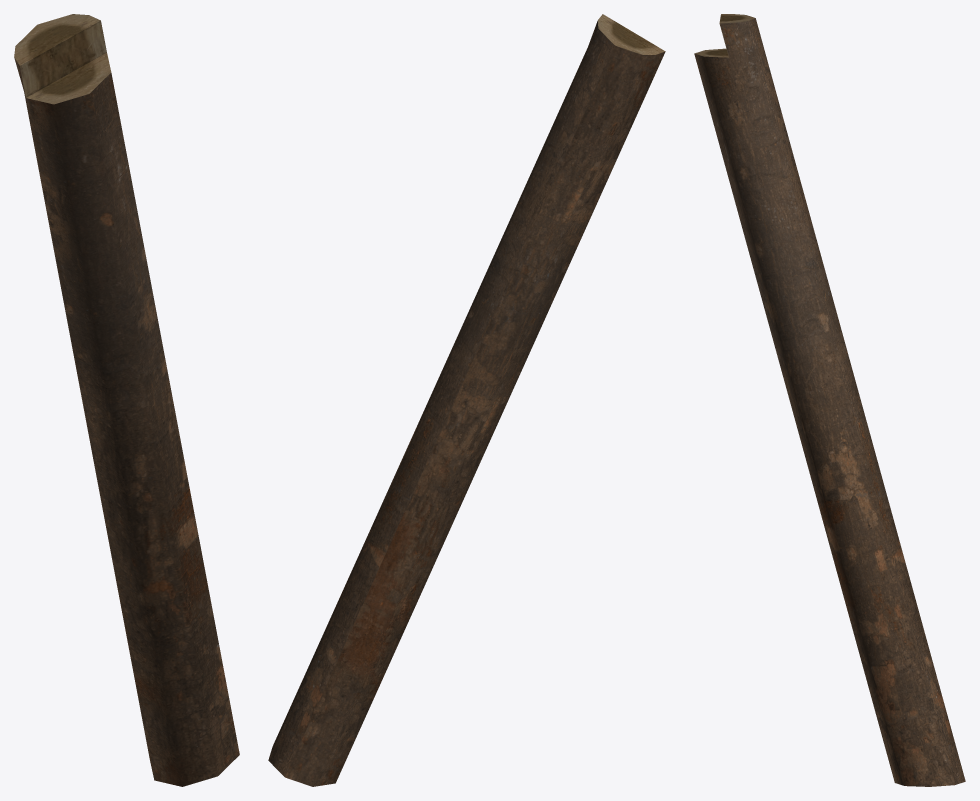
3 renders of one model, left to right at view 1: azimuth 30°, elevation 25°; view 2: azimuth 150°, elevation 25°; view 3: azimuth 270°, elevation 25°, orthographic. The views are drawn at different scales.
Parts seen in each view (by area): view 1: TS_Lo_L; view 2: TS_Lo_L; view 3: TS_Lo_L.
Boxes of the visible parts, box(x1,y1,x2,y2) form: TS_Lo_L: box(14, 14, 239, 786); TS_Lo_L: box(268, 14, 665, 786); TS_Lo_L: box(694, 14, 965, 786).
Size of the model in its own units: 0.8657 by 2.12 by 0.7653.
1 material, 1 textured.
